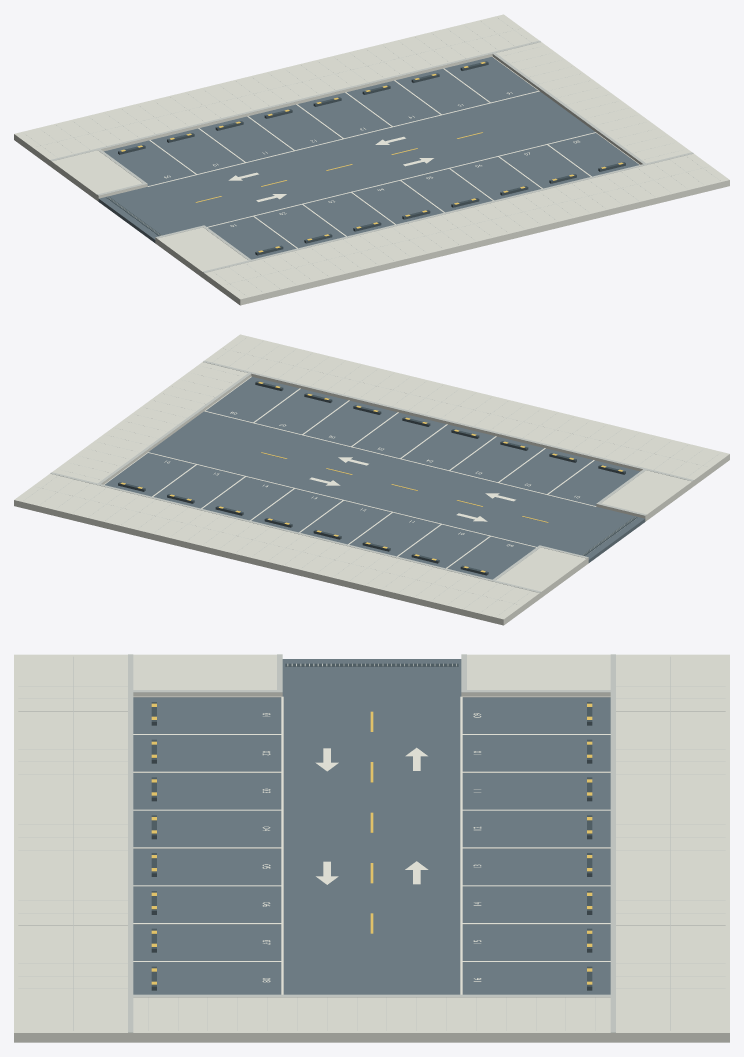
The model's file is SIMUS_Parking_Lot_16.fbx.
3 renders of one model, top to bottom at view 1: azimuth 30°, elevation 25°; view 2: azimuth 150°, elevation 25°; view 3: azimuth 270°, elevation 25°, orthographic. The views are drawn at different scales.
Visible parts, largest first — view 1: Asphalt base, Perimeter, East walkway, West, Entrance asphalt, Parking, Sidewalk curb, Wheel stop, Paving joint, East inner curb; view 2: Asphalt base, Perimeter, East walkway, West, Entrance asphalt, Parking, Sidewalk curb, Wheel stop, Paving joint, East inner curb; view 3: Asphalt base, Perimeter, East walkway, West, Entrance asphalt, Parking, Sidewalk curb, Paving joint, Wheel stop, East inner curb, Direction arrow, Walkway joint (+1 smaller).
Part boxes in pixels (x1,y1,x2,y2): Asphalt base: [104, 57, 638, 259]; Perimeter: [14, 14, 729, 305]; East walkway: [492, 42, 691, 164]; West: [51, 149, 250, 277]; Entrance asphalt: [98, 186, 200, 242]; Parking: [147, 56, 639, 248]; Sidewalk curb: [50, 40, 693, 272]; Wheel stop: [118, 61, 625, 255]; Paving joint: [25, 17, 719, 294]; East inner curb: [493, 53, 645, 163]; Asphalt base: [105, 377, 639, 579]; Perimeter: [14, 334, 729, 625]; East walkway: [52, 362, 251, 484]; West: [493, 469, 692, 597]; Entrance asphalt: [543, 506, 645, 562]; Parking: [104, 376, 596, 568]; Sidewalk curb: [50, 360, 693, 592]; Wheel stop: [118, 381, 625, 575]; Paving joint: [24, 337, 718, 614]; East inner curb: [98, 373, 250, 483]; Asphalt base: [133, 696, 610, 994]; Perimeter: [14, 654, 729, 1042]; East walkway: [133, 997, 610, 1042]; West: [133, 654, 610, 696]; Entrance asphalt: [282, 659, 461, 696]; Parking: [133, 696, 610, 994]; Sidewalk curb: [128, 654, 615, 1032]; Paving joint: [18, 686, 725, 1030]; Wheel stop: [151, 702, 592, 990]; East inner curb: [133, 994, 610, 997]; Direction arrow: [315, 747, 428, 884]; Walkway joint: [73, 656, 670, 1030].
Bounding box in the file's own units: 3000 × 37 × 2400.
